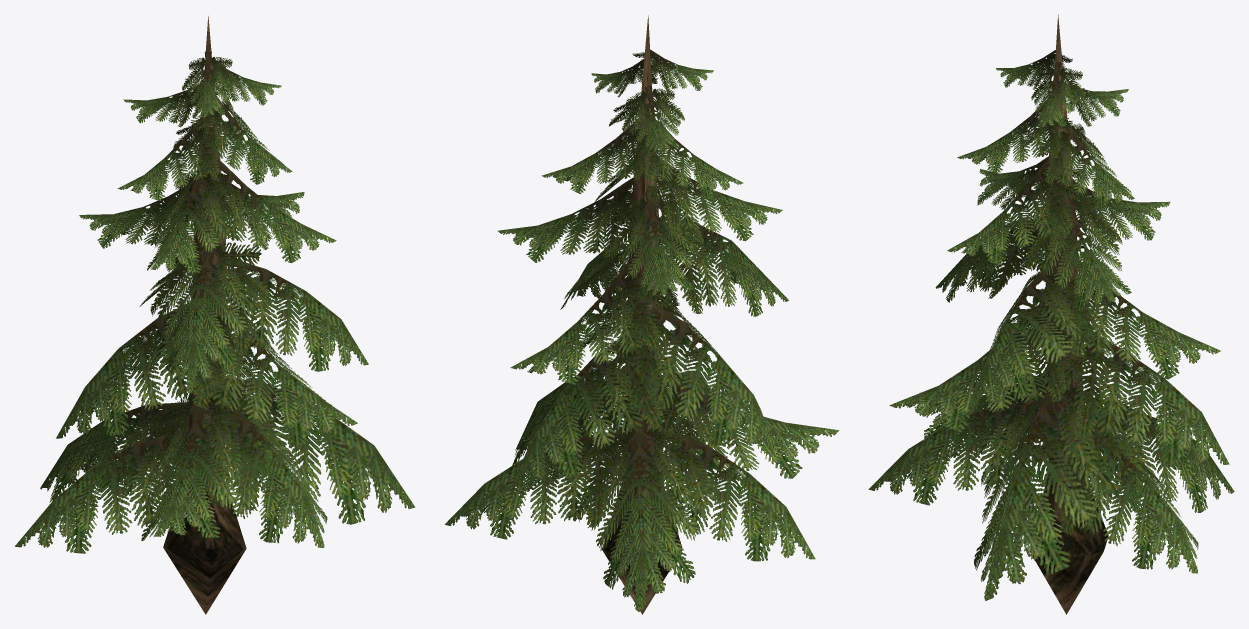
Rendered from m_zhiwu_06.FBX.
3 renders of one model, left to right at view 1: azimuth 30°, elevation 25°; view 2: azimuth 150°, elevation 25°; view 3: azimuth 270°, elevation 25°, orthographic.
Parts seen in each view (by area): view 1: m_zhiwu_06; view 2: m_zhiwu_06; view 3: m_zhiwu_06.
Part boxes in pixels (box(x1,y1,x2,y2)): m_zhiwu_06: box(15, 16, 415, 614); m_zhiwu_06: box(445, 15, 838, 614); m_zhiwu_06: box(868, 14, 1234, 614).
Bounding box in the file's own units: 241 × 394 × 218.
